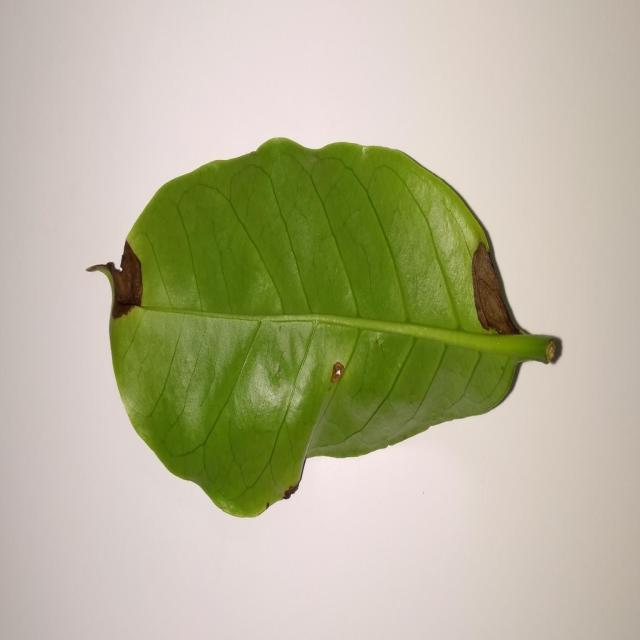Enfermedad-Antracnosis: (87, 138, 564, 521)
